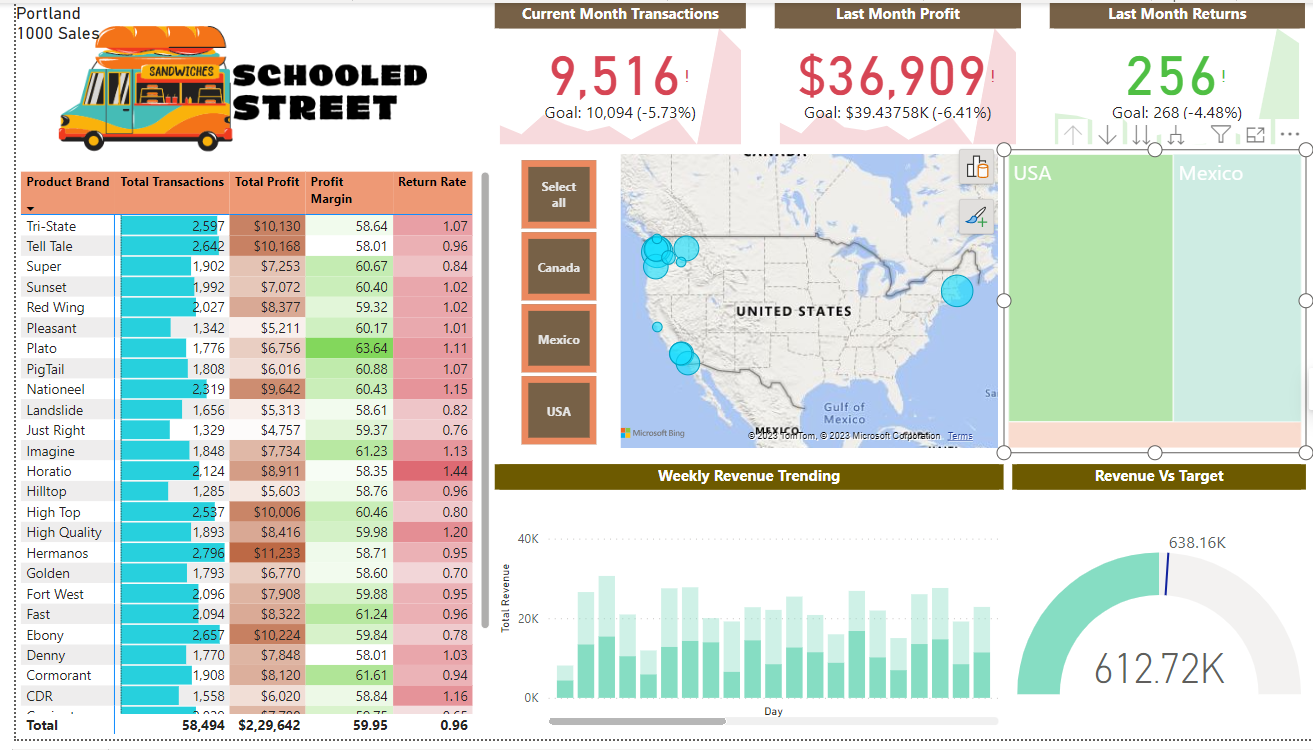

The page's visual inventory and layout, read from the dashboard file:
{"tool":"powerbi","page":{"name":"Main ","canvas":[1280,720],"ordinal":0},"visuals":[{"type":"image","box":[13.4,0,414.4,160.1],"z":0},{"type":"pivotTable","fields":{"Values":["Measure Table.Total Transactions","Measure Table.Total Profit","Measure Table.Profit Margin","Measure Table.Return Rate"],"Rows":["Products.product_brand"]},"box":[0,160.1,468.2,559.9],"z":1000},{"type":"kpi","title":"Current Month Transactions","fields":{"Goal":["Measure Table.Last Month Transactions"],"TrendLine":["Calendar.Start of Month"],"Indicator":["Measure Table.Total Transactions"]},"box":[468.2,0,245.7,143],"z":2000},{"type":"kpi","title":"Last Month Profit","fields":{"TrendLine":["Calendar.Start of Month"],"Indicator":["Measure Table.Total Profit"],"Goal":["Measure Table.Last Month Profit"]},"box":[742,0,240.8,143],"z":3000},{"type":"kpi","title":"Last Month Returns","fields":{"TrendLine":["Calendar.Start of Month"],"Indicator":["Measure Table.Total Returns"],"Goal":["Measure Table.Last Month Return"]},"box":[1010.9,0,249.4,143],"z":4000},{"type":"map","fields":{"Category":["Stores.store_city"],"Size":["Measure Table.Total Transactions"]},"box":[580.6,143,385.1,353.3],"z":5000},{"type":"slicer","fields":{"Values":["Stores.store_country"]},"box":[468.2,146.7,123.5,349.6],"z":6000},{"type":"treemap","fields":{"Group":["Stores.store_country","Stores.store_state","Stores.store_city"],"Values":["Measure Table.Total Transactions"]},"box":[965.7,143,294.6,361.8],"z":7000},{"type":"columnChart","title":"Weekly Revenue Trending","fields":{"Y":["Measure Table.Total Revenue"],"Category":["Calendar.Start of Week.Variation.Date Hierarchy.Year","Calendar.Start of Week.Variation.Date Hierarchy.Quarter","Calendar.Start of Week.Variation.Date Hierarchy.Month","Calendar.Start of Week.Variation.Date Hierarchy.Day"]},"box":[468.2,504.9,497.5,206.6],"z":8000},{"type":"gauge","title":"Revenue Vs Target","fields":{"Y":["Measure Table.Total Revenue"],"TargetValue":["Measure Table.Revenue Target"]},"box":[965.7,504.9,294.6,206.6],"z":9000}]}

Visuals, with their boxes in screenshot pixels (x1, y1, x2, y2), scaled from the page's 1280x720 canvas onto the 1313x750 screenshot:
image: [x1=14, y1=0, x2=439, y2=167]
pivotTable - Measure Table.Total Transactions x Measure Table.Total Profit: [x1=0, y1=167, x2=480, y2=749]
"Current Month Transactions" kpi: [x1=480, y1=0, x2=732, y2=149]
"Last Month Profit" kpi: [x1=761, y1=0, x2=1008, y2=149]
"Last Month Returns" kpi: [x1=1037, y1=0, x2=1293, y2=149]
map - Stores.store_city x Measure Table.Total Transactions: [x1=596, y1=149, x2=991, y2=517]
slicer - Stores.store_country: [x1=480, y1=153, x2=607, y2=517]
treemap - Stores.store_country x Stores.store_state: [x1=991, y1=149, x2=1293, y2=526]
"Weekly Revenue Trending" columnChart: [x1=480, y1=526, x2=991, y2=741]
"Revenue Vs Target" gauge: [x1=991, y1=526, x2=1293, y2=741]
